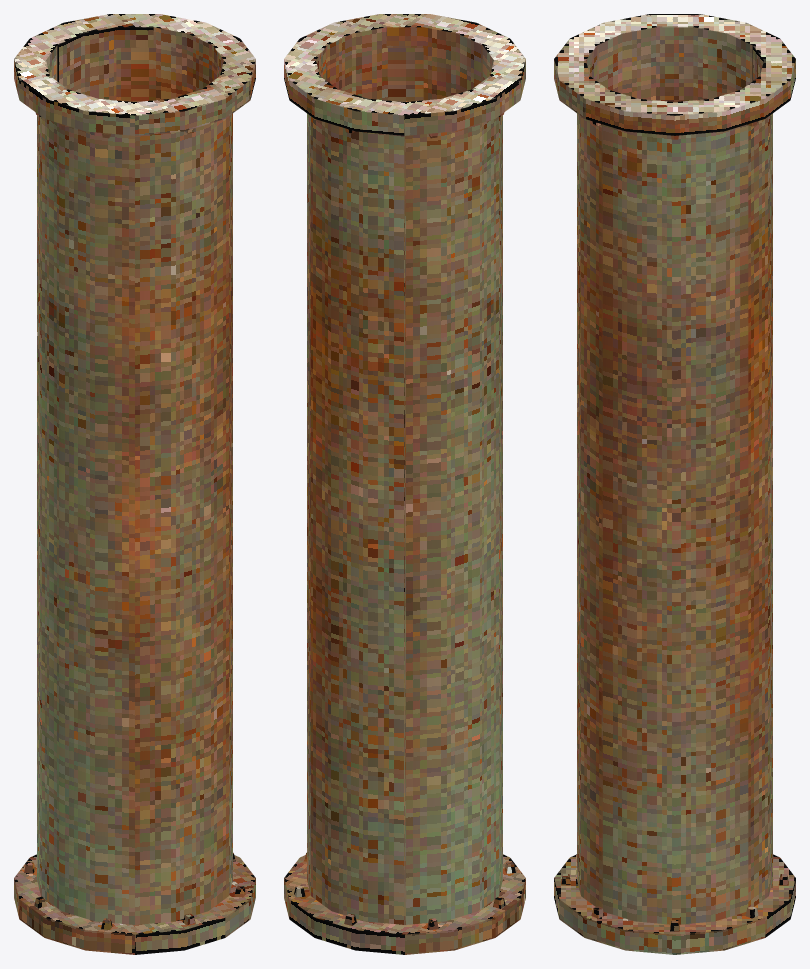
Rendered from Pipe_Set_1_1.glb.
3 renders of one model, left to right at view 1: azimuth 30°, elevation 25°; view 2: azimuth 150°, elevation 25°; view 3: azimuth 270°, elevation 25°, orthographic.
Visible parts, largest first — view 1: Pipe_Set_1_1; view 2: Pipe_Set_1_1; view 3: Pipe_Set_1_1.
Boxes of the visible parts, <box> form: Pipe_Set_1_1: <box>14,14,255,954</box>; Pipe_Set_1_1: <box>284,14,525,954</box>; Pipe_Set_1_1: <box>554,14,795,954</box>.
Bounding box in the file's own units: 0.2686 × 1.03 × 0.2701.
1 material, 1 textured.
